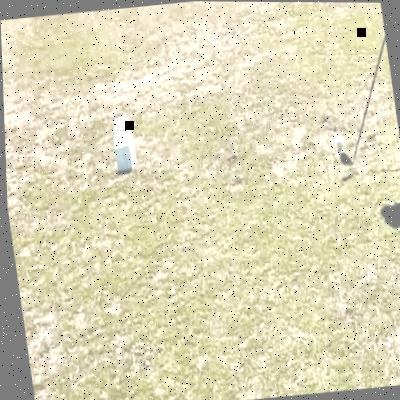ClubHead: (332, 135, 344, 151)
GolfBall: (336, 146, 359, 168)
